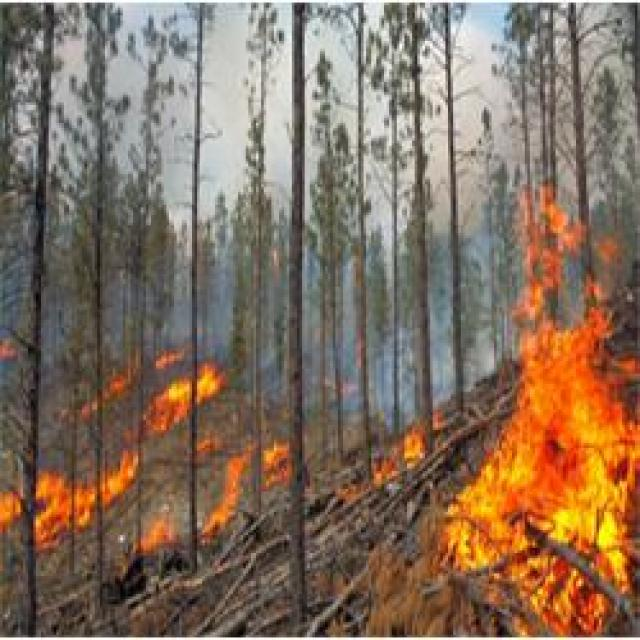fire: (452, 182, 636, 617), (0, 426, 293, 551), (65, 365, 264, 422), (365, 419, 425, 492)
